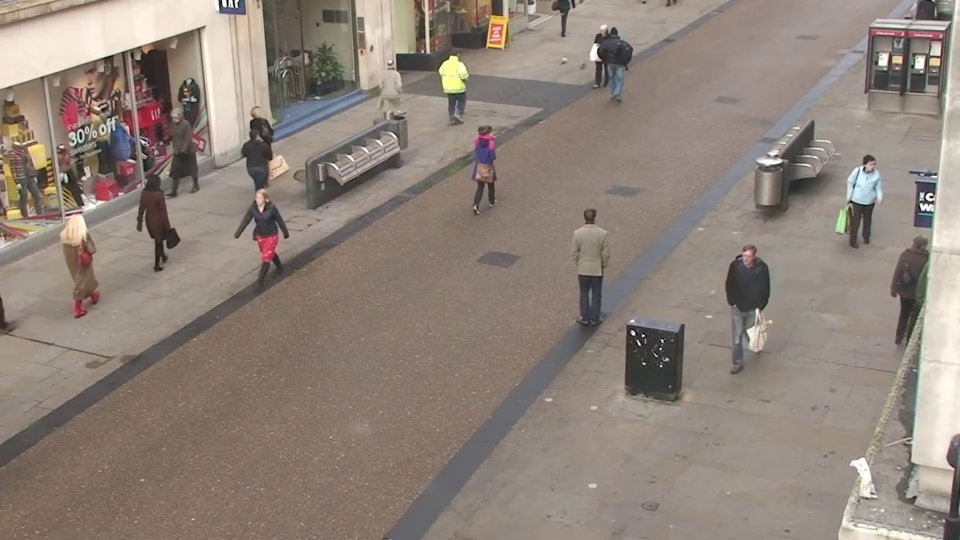pedestrian: (890, 225, 945, 352), (63, 202, 116, 318), (721, 243, 767, 373), (236, 189, 280, 303), (143, 167, 188, 274), (845, 152, 889, 258), (569, 201, 606, 321), (151, 110, 190, 201), (243, 121, 279, 217), (247, 101, 281, 191), (474, 114, 506, 209), (382, 55, 410, 133), (446, 44, 473, 120), (588, 25, 611, 95), (605, 20, 628, 89)
